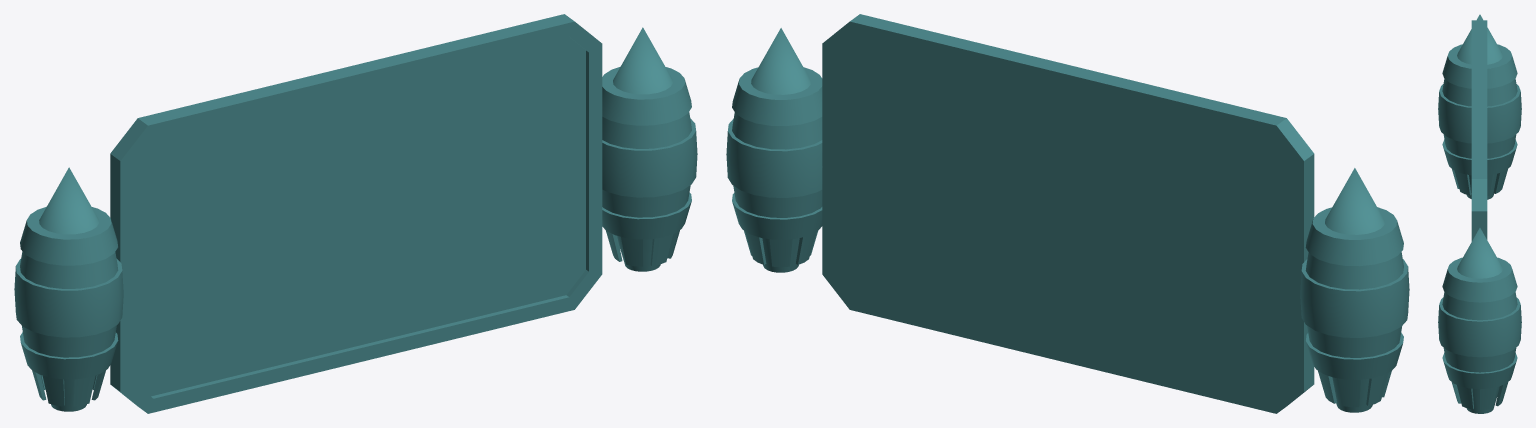
Rendered from MOD_FloatingBillboard.fbx.
3 renders of one model, left to right at view 1: azimuth 30°, elevation 25°; view 2: azimuth 150°, elevation 25°; view 3: azimuth 270°, elevation 25°, orthographic. The views are drawn at different scales.
Visible parts, largest first — view 1: MOD_FloatingBillboard; view 2: MOD_FloatingBillboard; view 3: MOD_FloatingBillboard.
Boxes of the visible parts, x1=… form: MOD_FloatingBillboard: x1=14, y1=14, x2=697, y2=413; MOD_FloatingBillboard: x1=726, y1=14, x2=1409, y2=413; MOD_FloatingBillboard: x1=1438, y1=14, x2=1521, y2=413.
Size of the model in its own units: 1255 by 517 by 179.
